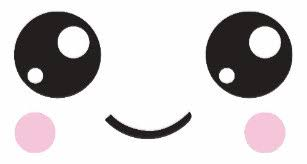feliz: (10, 8, 298, 148)
